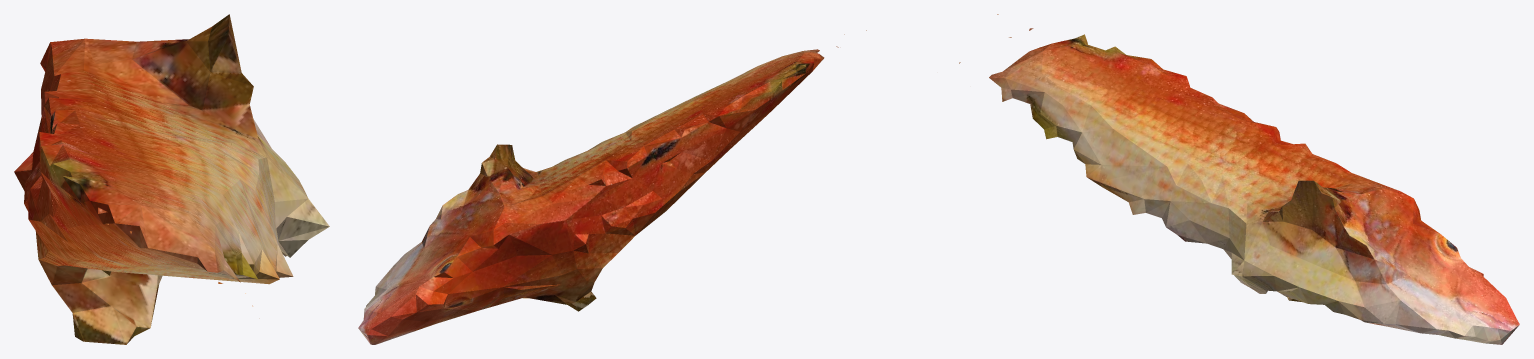
The model's file is wrasse_lo.glb.
3 renders of one model, left to right at view 1: azimuth 30°, elevation 25°; view 2: azimuth 150°, elevation 25°; view 3: azimuth 270°, elevation 25°, orthographic. The views are drawn at different scales.
Parts seen in each view (by area): view 1: wrasse_far; view 2: wrasse_far; view 3: wrasse_far.
Boxes of the visible parts, bbox=[...] form: wrasse_far: bbox=[14, 14, 329, 344]; wrasse_far: bbox=[358, 30, 866, 344]; wrasse_far: bbox=[959, 14, 1519, 344].
Size of the model in its own units: 0.1375 by 0.0964 by 0.2539.
1 material, 1 textured.
